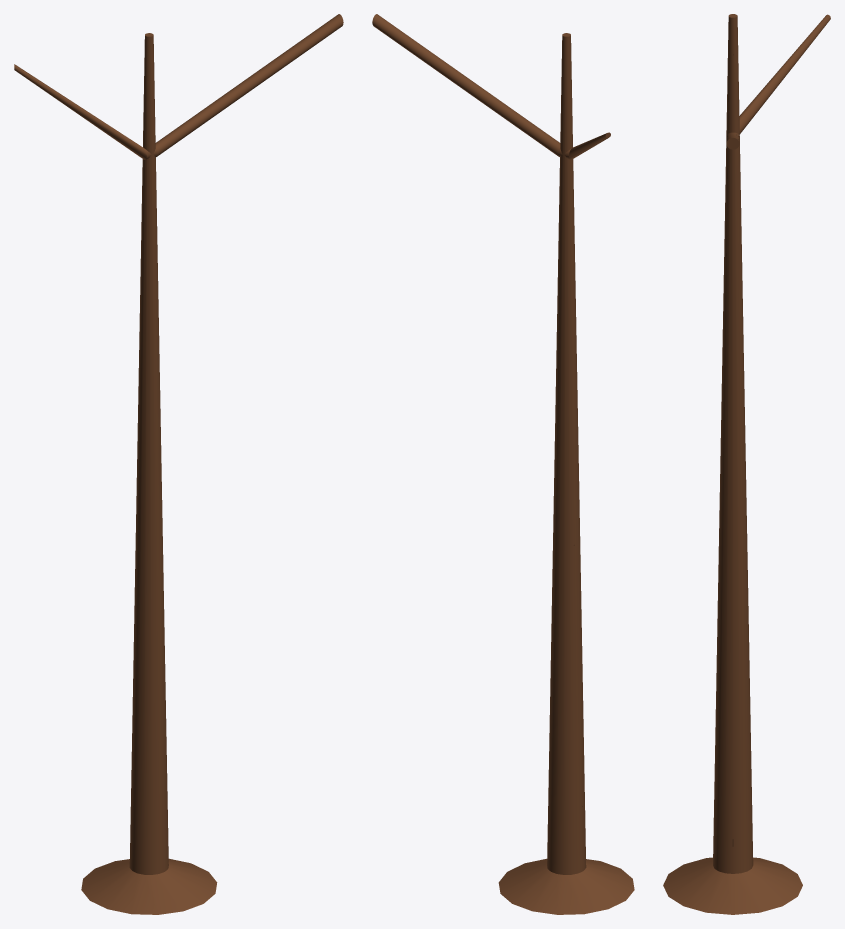
File: Percha.fbx
The picture shows the model from 3 angles, left to right: view 1: azimuth 30°, elevation 25°; view 2: azimuth 150°, elevation 25°; view 3: azimuth 270°, elevation 25°; orthographic projection. The views are drawn at different scales.
Parts seen in each view (by area): view 1: percha; view 2: percha; view 3: percha.
Boxes of the visible parts, left/top/right/bottom form: percha: left=14, top=14, right=343, bottom=914; percha: left=372, top=14, right=634, bottom=914; percha: left=663, top=14, right=830, bottom=914.
Size of the model in its own units: 52.53 by 152 by 26.63.
